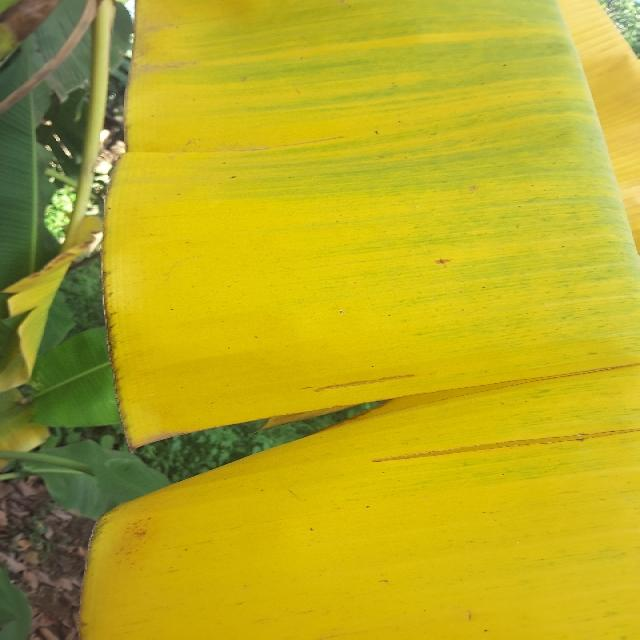Bract_mosaic_virus: (0, 0, 72, 43)
Cordana: (90, 2, 640, 640), (0, 211, 85, 435)
